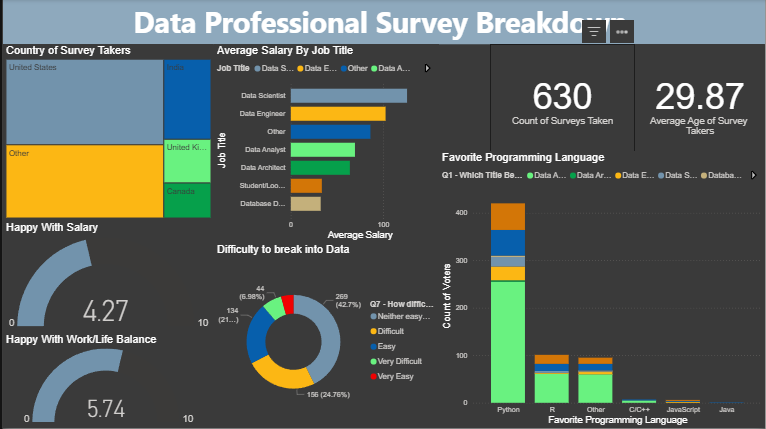

The dashboard page shown, as its layout file describes it:
{"tool":"powerbi","page":{"name":"Page 1","canvas":[1280,720],"ordinal":0},"visuals":[{"type":"textbox","box":[0,0,1280,75.6],"z":0},{"type":"card","fields":{"Values":["Count(Data Professional Survey.Unique ID)"]},"box":[818.1,75.6,243.6,183.1],"z":1000},{"type":"card","fields":{"Values":["Avg(Data Professional Survey.Q10 - Current Age)"]},"box":[1061.6,75.6,218.4,183.1],"z":2000},{"type":"barChart","title":"Average Salary By Job Title ","fields":{"Category":["Data Professional Survey.Q1 - Which Title Best Fits your Current Role?.1"],"Y":["Sum(Data Professional Survey.Average Salary)"],"Series":["Data Professional Survey.Q1 - Which Title Best Fits your Current Role?.1"]},"box":[354.4,75.6,378,334.3],"z":3000},{"type":"columnChart","title":"Favorite Programming Language","fields":{"Category":["Data Professional Survey.Q5 - Favorite Programming Language.1.1"],"Y":["CountNonNull(Data Professional Survey.Unique ID)"],"Series":["Data Professional Survey.Q1 - Which Title Best Fits your Current Role?.1"]},"box":[732.4,255.3,547.6,465.3],"z":4000},{"type":"treemap","title":"Country of Survey Takers","fields":{"Group":["Data Professional Survey.Q11 - Which Country do you live in?.1"],"Values":["CountNonNull(Data Professional Survey.Q11 - Which Country do you live in?.1)"]},"box":[0,75.6,354.4,297.3],"z":5000},{"type":"gauge","title":"Happy With Salary","fields":{"Y":["Avg(Data Professional Survey.Q6 - How Happy are you in your Current Position with the following? (Salary))"],"MinValue":["Min(Data Professional Survey.Q6 - How Happy are you in your Current Position with the following? (Salary))"],"MaxValue":["Max(Data Professional Survey.Q6 - How Happy are you in your Current Position with the following? (Salary))1"]},"box":[0,372.9,354.4,188.1],"z":6000},{"type":"gauge","title":"Happy With Work/Life Balance","fields":{"Y":["Avg(Data Professional Survey.Q6 - How Happy are you in your Current Position with the following? (Work/Life Balance))"],"MinValue":["Min(Data Professional Survey.Q6 - How Happy are you in your Current Position with the following? (Work/Life Balance))"],"MaxValue":["Max(Data Professional Survey.Q6 - How Happy are you in your Current Position with the following? (Work/Life Balance))"]},"box":[0,561,354.4,159.6],"z":7000},{"type":"donutChart","title":"Difficulty to break into Data","fields":{"Category":["Data Professional Survey.Q7 - How difficult was it for you to break into Data?"],"Y":["CountNonNull(Data Professional Survey.Q7 - How difficult was it for you to break into Data?)"]},"box":[354.4,409.9,378,310.8],"z":8000}]}

Visuals, with their boxes on the page's 1280x720 design canvas (x1, y1, x2, y2). These are canvas units, not pixel positions in the 766x429 screenshot, which may show the page scaled, cropped or inside an application window:
textbox: crop(0, 0, 1280, 76)
card - Count(Data Professional Survey.Unique ID): crop(818, 76, 1062, 259)
card - Avg(Data Professional Survey.Q10 - Current Age): crop(1062, 76, 1280, 259)
"Average Salary By Job Title " barChart: crop(354, 76, 732, 410)
"Favorite Programming Language" columnChart: crop(732, 255, 1280, 721)
"Country of Survey Takers" treemap: crop(0, 76, 354, 373)
"Happy With Salary" gauge: crop(0, 373, 354, 561)
"Happy With Work/Life Balance" gauge: crop(0, 561, 354, 721)
"Difficulty to break into Data" donutChart: crop(354, 410, 732, 721)
